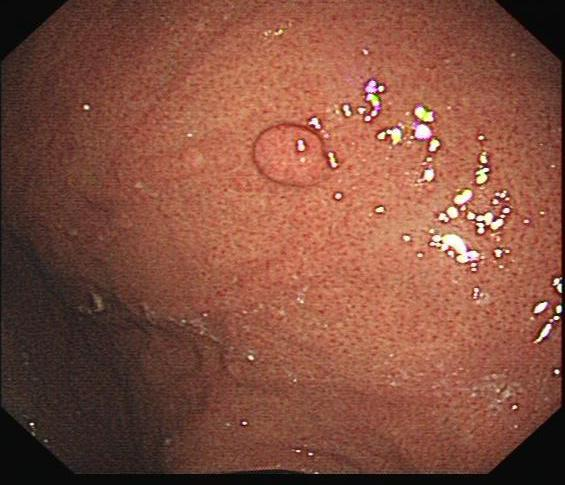Polyp: (257, 121, 334, 191)
